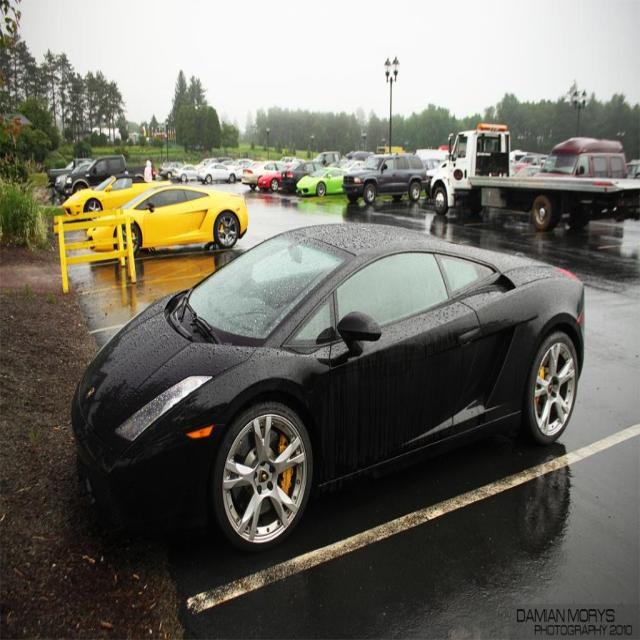car: (74, 217, 572, 568)
